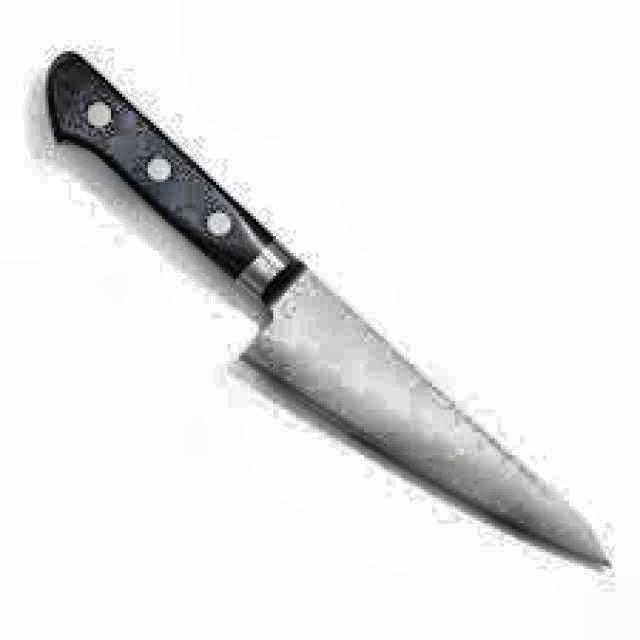knife: (41, 41, 617, 578)
